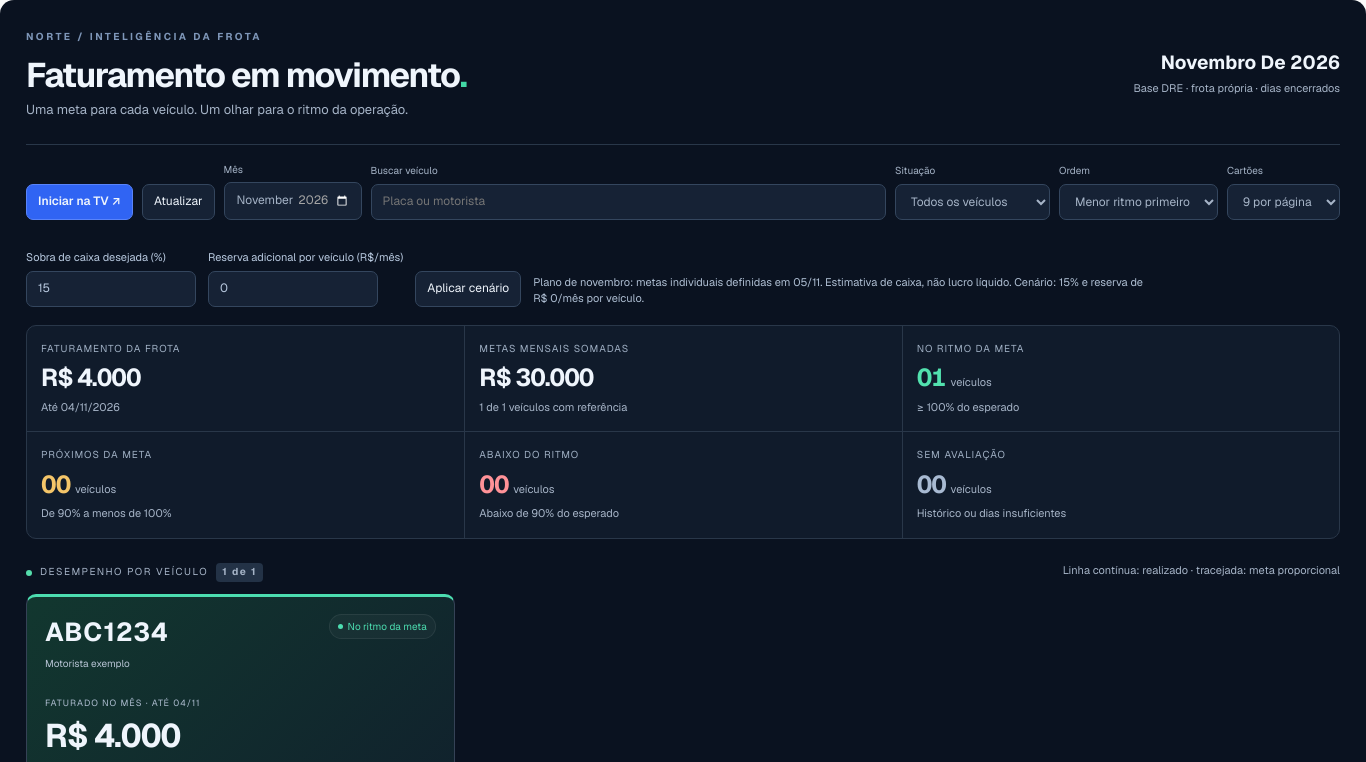
Scenario: mostra faturamento e gráfico acessível e filtra sem inventar veículos
This screenshot has width=1366, height=762.
In the field with placeholder "Placa ou motorista": [628, 202] box [370,184,886,220], type "ZZZ"
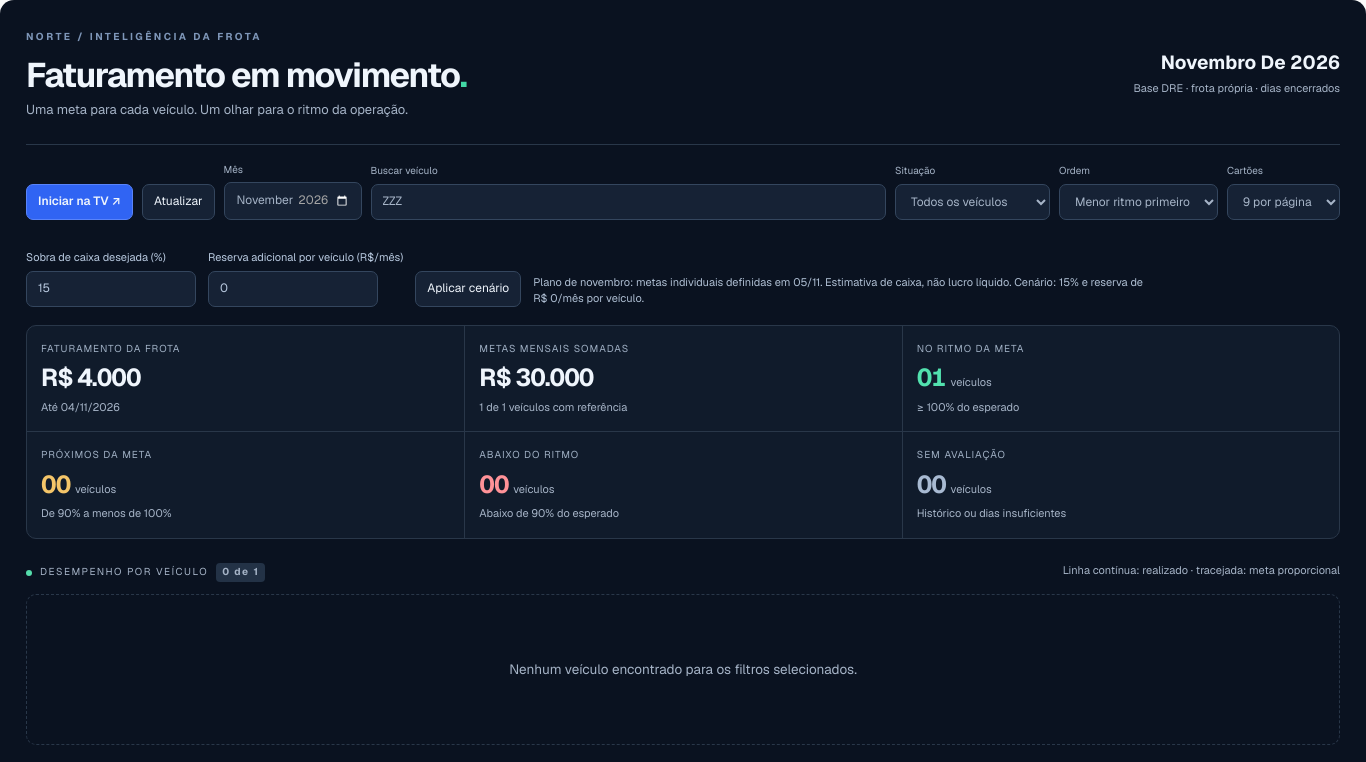
Expected: the text "Nenhum veículo encontrado para os filtros selecionados." is shown, [26,594,1340,746]
